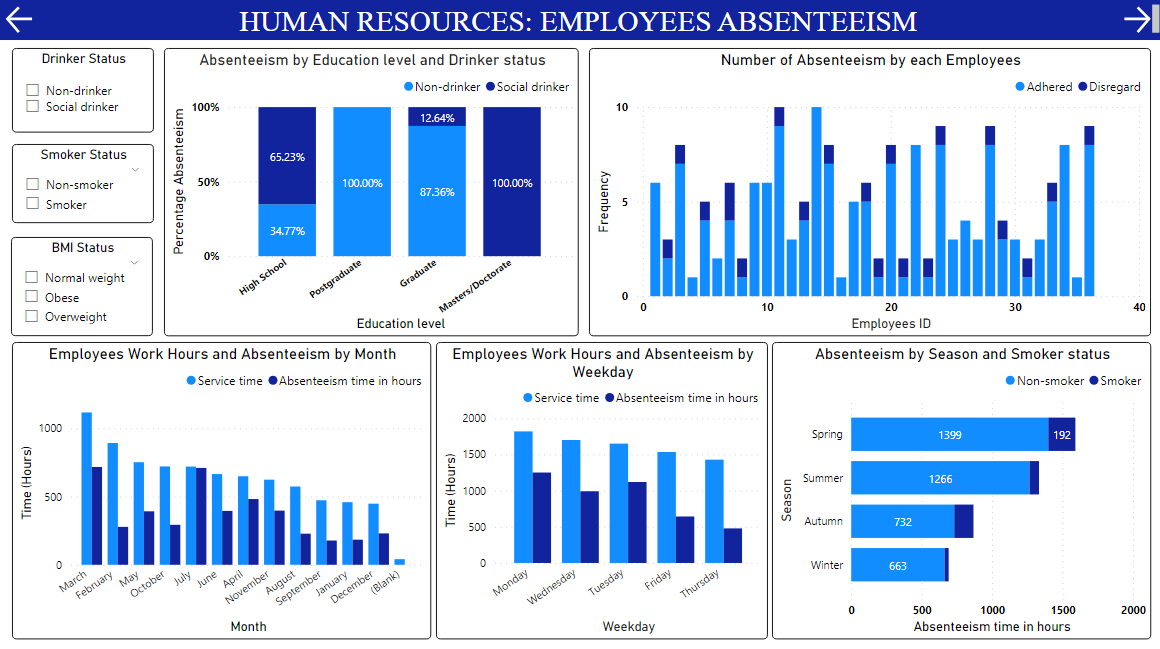

What the dashboard file says about the page in this screenshot:
{"tool":"powerbi","page":{"name":"Page 3","canvas":[1280,720],"ordinal":2},"visuals":[{"type":"barChart","title":"Absenteeism by Season and Smoker status","fields":{"Category":["Absenteeisms.Season"],"Y":["Sum(Absenteeisms.Absenteeism time in hours)"],"Series":["Employee_info.Smoker status"]},"box":[848.8,383.2,417,327.3],"z":0},{"type":"clusteredColumnChart","title":"Employees Work Hours and Absenteeism by Weekday","fields":{"Category":["Absenteeisms.Weekday"],"Y":["Sum(Absenteeisms.Service time)","Sum(Absenteeisms.Absenteeism time in hours)"]},"box":[479.3,383.2,365.3,327.3],"z":1000},{"type":"clusteredColumnChart","title":"Employees Work Hours and Absenteeism by Month","fields":{"Category":["Absenteeisms.Month"],"Y":["Sum(Absenteeisms.Service time)","Sum(Absenteeisms.Absenteeism time in hours)"]},"box":[12.7,383.2,461.3,327.3],"z":2000},{"type":"columnChart","title":"Number of Absenteeism by each Employees","fields":{"Category":["Absenteeisms.ID"],"Y":["Count(Absenteeisms.Absenteeism time in hours)"],"Series":["Absenteeisms.Disciplinary status"]},"box":[648.1,59.2,617.9,317.1],"z":3000},{"type":"slicer","title":"Drinker Status","fields":{"Values":["Employee_info.Drinker status"]},"box":[12.8,59.2,155.6,92.9],"z":4000},{"type":"hundredPercentStackedColumnChart","title":"Absenteeism by Education level and Drinker status","fields":{"Y":["Sum(Absenteeisms.Absenteeism time in hours)"],"Category":["Employee_info.Education level"],"Series":["Employee_info.Drinker status"]},"box":[180,59.2,456.5,317.1],"z":5000},{"type":"textbox","box":[0,7,1280,44.1],"z":6000},{"type":"slicer","title":"Smoker Status","fields":{"Values":["Employee_info.Smoker status"]},"box":[12.8,164.9,155.6,87.1],"z":7000},{"type":"actionButton","box":[2.3,9.3,47.6,39.5],"z":8000},{"type":"actionButton","box":[1230.1,9.3,44.1,39.5],"z":9000},{"type":"slicer","title":"BMI Status","fields":{"Values":["Employee_info.BMI Status"]},"box":[11.6,267.2,155.6,109.2],"z":10000}]}

Visuals, with their boxes in screenshot pixels (x1, y1, x2, y2), scaled from the page's 1280x720 canvas onto the 1160x649 screenshot:
"Absenteeism by Season and Smoker status" barChart: rect(769, 345, 1147, 640)
"Employees Work Hours and Absenteeism by Weekday" clusteredColumnChart: rect(434, 345, 765, 640)
"Employees Work Hours and Absenteeism by Month" clusteredColumnChart: rect(12, 345, 430, 640)
"Number of Absenteeism by each Employees" columnChart: rect(587, 53, 1147, 339)
"Drinker Status" slicer: rect(12, 53, 153, 137)
"Absenteeism by Education level and Drinker status" hundredPercentStackedColumnChart: rect(163, 53, 577, 339)
textbox: rect(0, 6, 1159, 46)
"Smoker Status" slicer: rect(12, 149, 153, 227)
actionButton: rect(2, 8, 45, 44)
actionButton: rect(1115, 8, 1155, 44)
"BMI Status" slicer: rect(11, 241, 152, 339)
